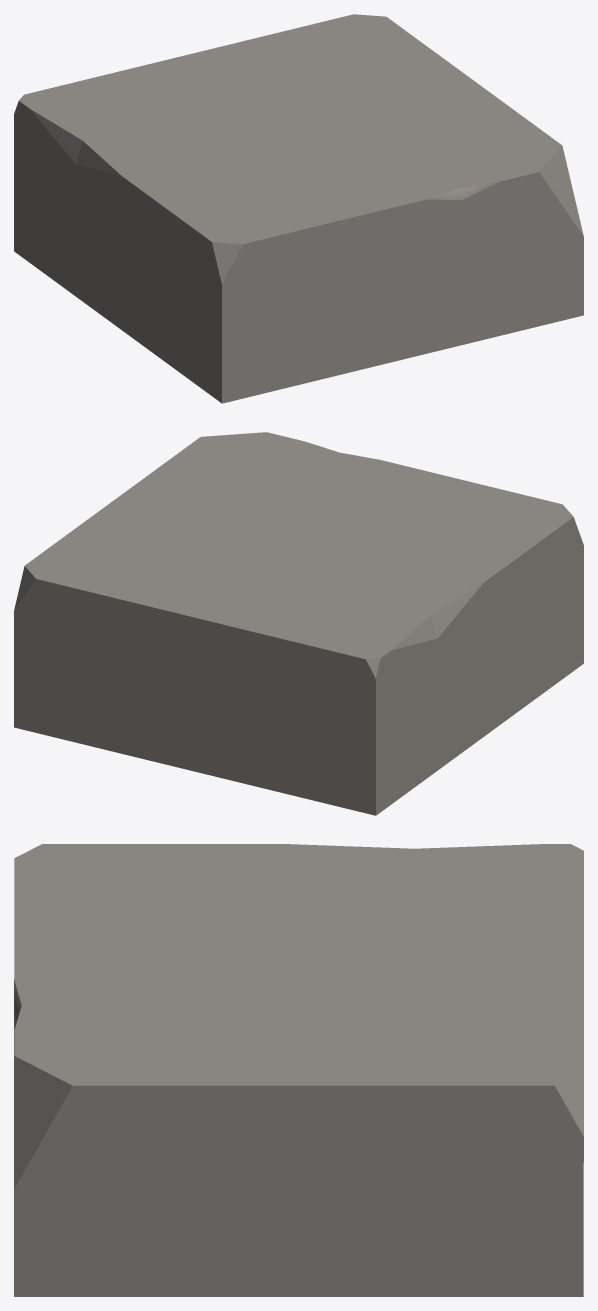
The model's file is SM_Env_Floor_07.fbx.
The picture shows the model from 3 angles, top to bottom: view 1: azimuth 30°, elevation 25°; view 2: azimuth 150°, elevation 25°; view 3: azimuth 270°, elevation 25°; orthographic projection. The views are drawn at different scales.
Visible parts, largest first — view 1: SM_Env_Floor_07; view 2: SM_Env_Floor_07; view 3: SM_Env_Floor_07.
Boxes of the visible parts, bbox=[...] form: SM_Env_Floor_07: bbox=[14, 14, 583, 403]; SM_Env_Floor_07: bbox=[14, 432, 583, 815]; SM_Env_Floor_07: bbox=[14, 844, 583, 1296].
Bounding box in the file's own units: 147 × 59.77 × 146.
1 material, 1 textured.
